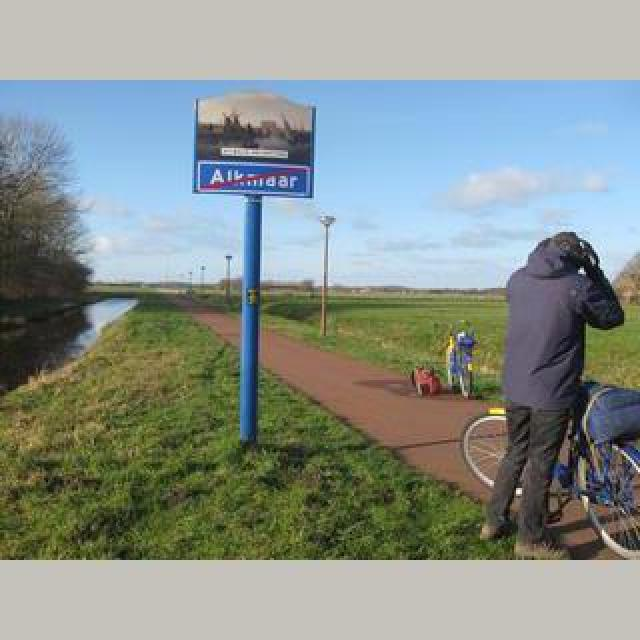MC-Bike: (472, 234, 630, 546)
Person: (458, 378, 640, 556), (432, 320, 480, 398)
